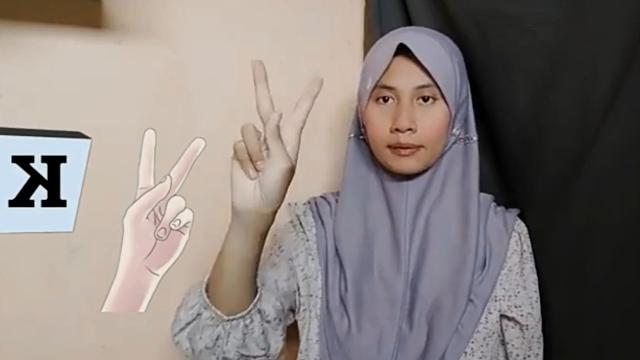K: (228, 61, 326, 217)
